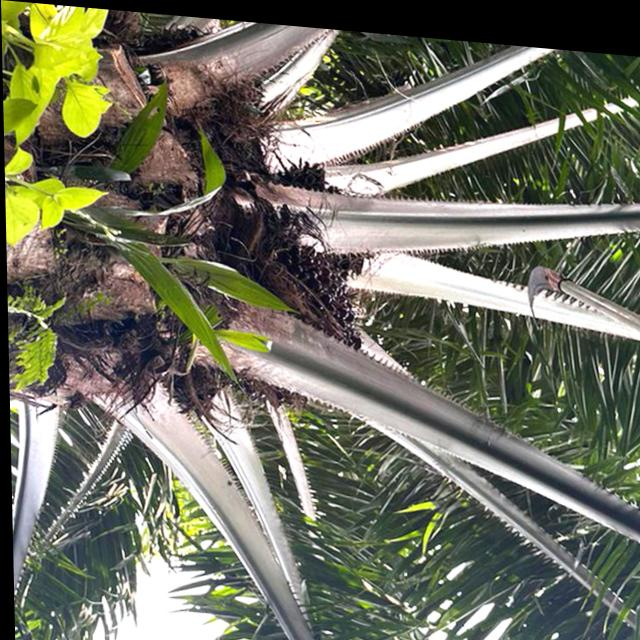unripe: (229, 227, 362, 415)
